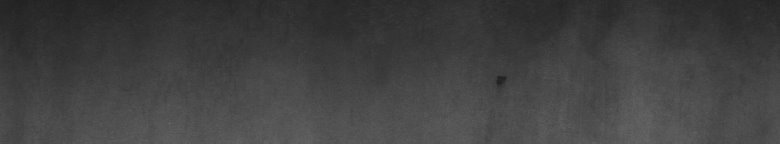fi: (493, 70, 509, 88)
